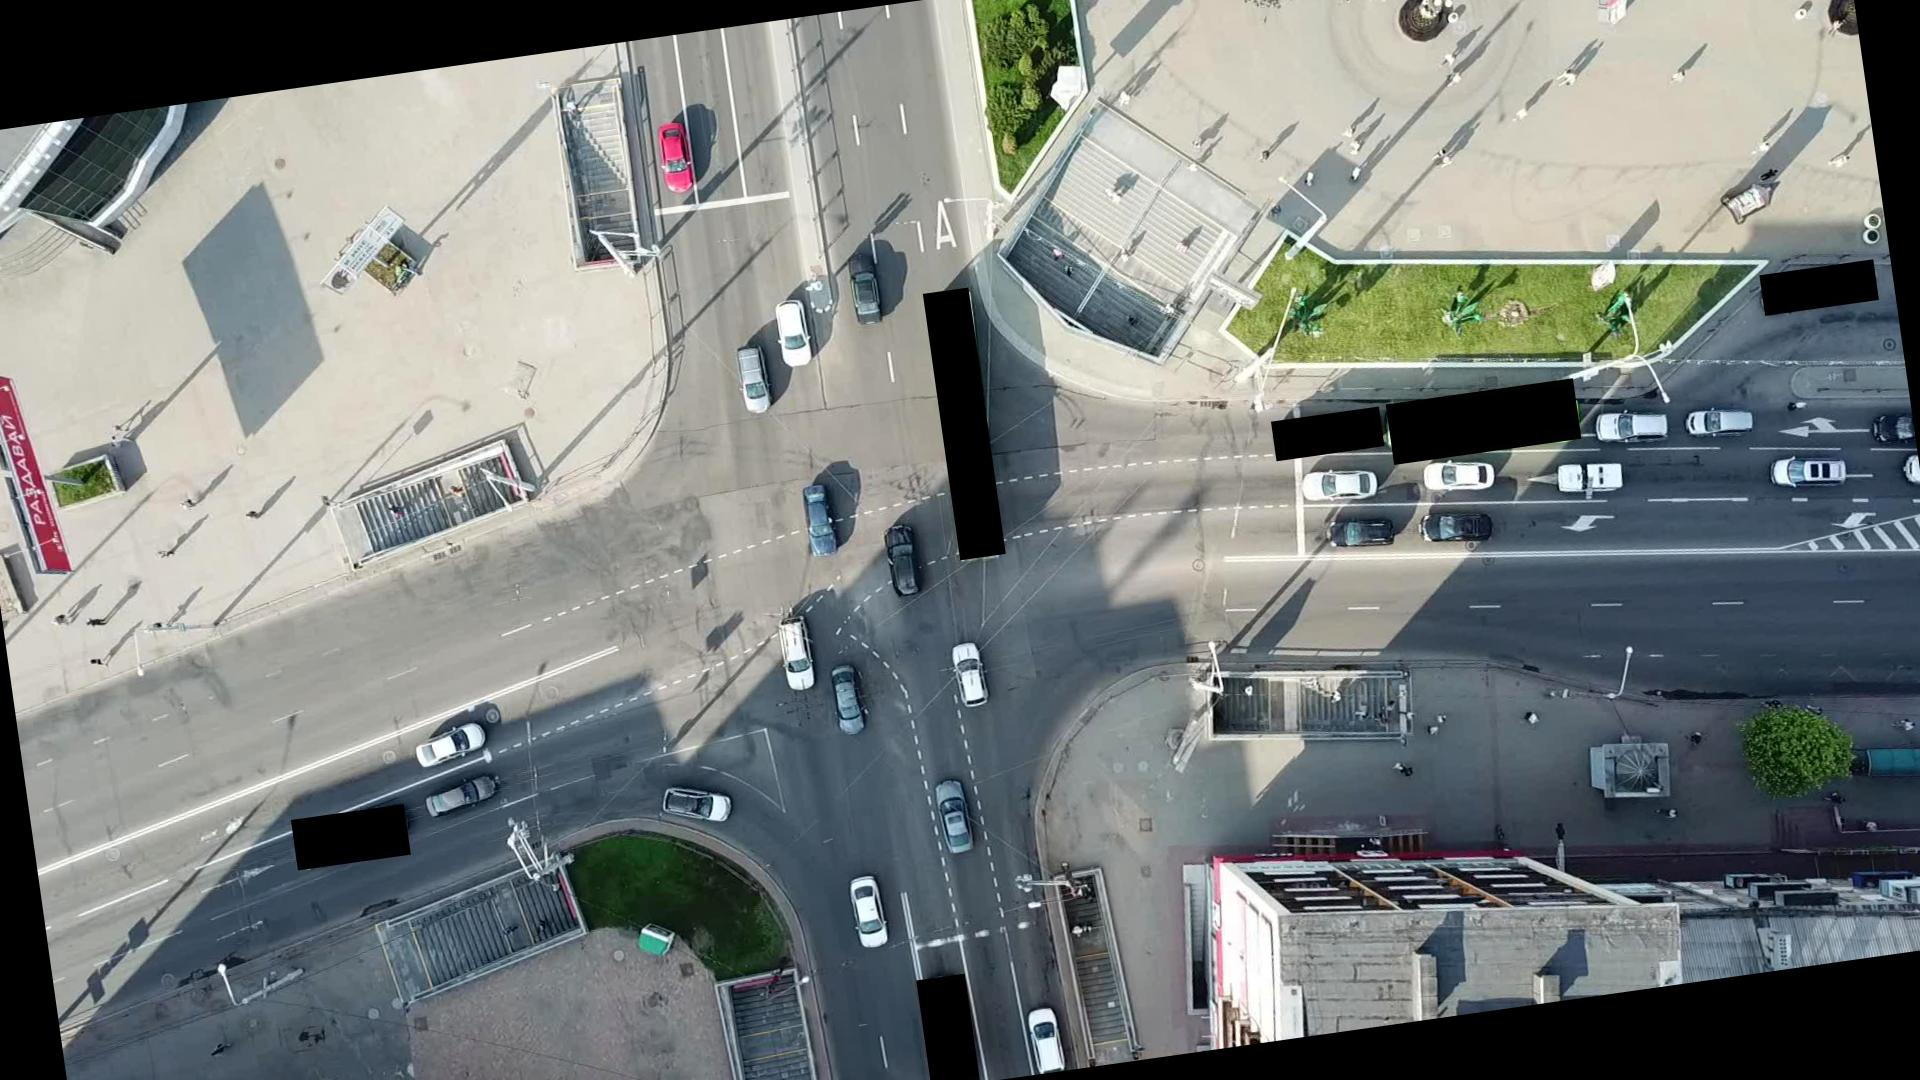vehicle: (411, 720, 491, 771), (1764, 447, 1847, 496), (1593, 402, 1672, 451), (658, 778, 732, 829), (421, 771, 498, 820), (931, 777, 977, 856), (1299, 463, 1378, 508), (1415, 505, 1494, 549), (775, 613, 818, 694), (847, 873, 890, 949), (1422, 454, 1497, 497), (844, 251, 886, 327), (881, 522, 923, 599), (654, 120, 696, 195), (800, 483, 840, 559), (773, 295, 814, 369), (735, 343, 775, 415), (949, 640, 992, 709), (1684, 401, 1755, 442), (828, 662, 866, 737), (1324, 513, 1395, 553), (1556, 456, 1621, 498), (1026, 1006, 1064, 1073)
